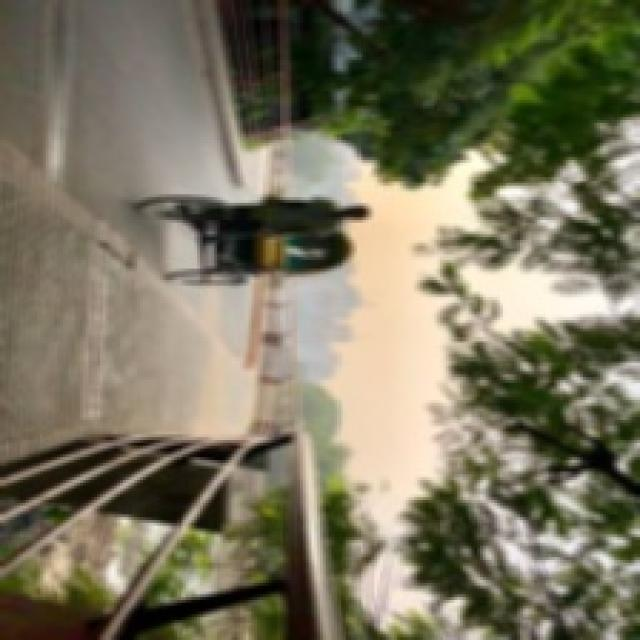rickshaw: (131, 190, 356, 284)
